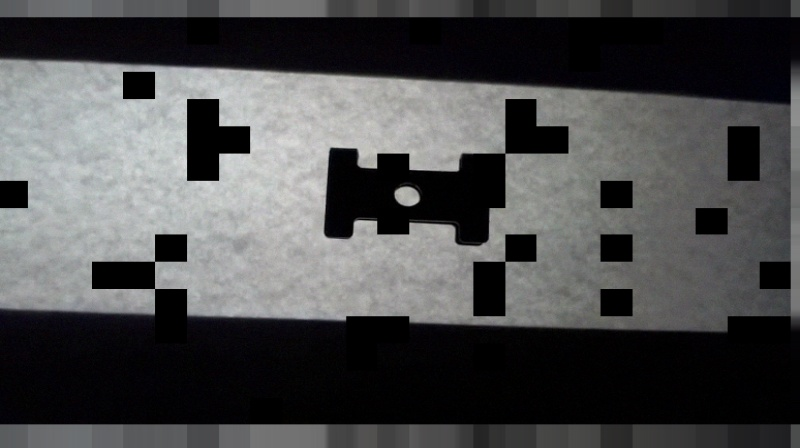O002: (323, 144, 496, 250)
